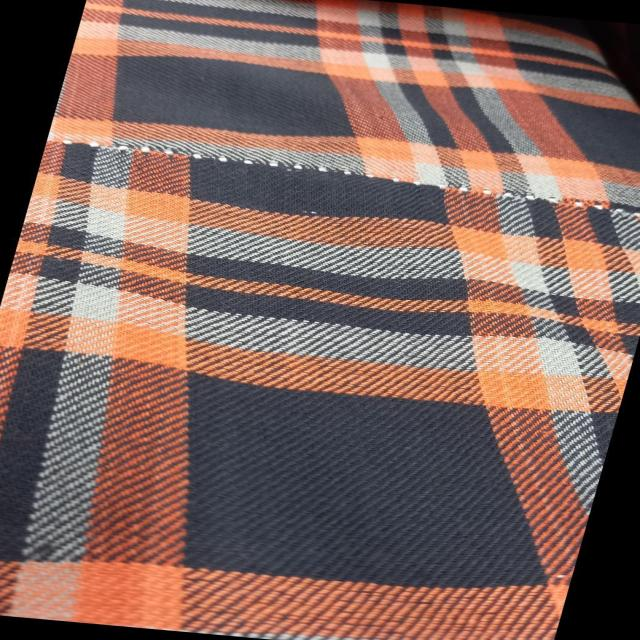gray stitch: (35, 130, 640, 234)
